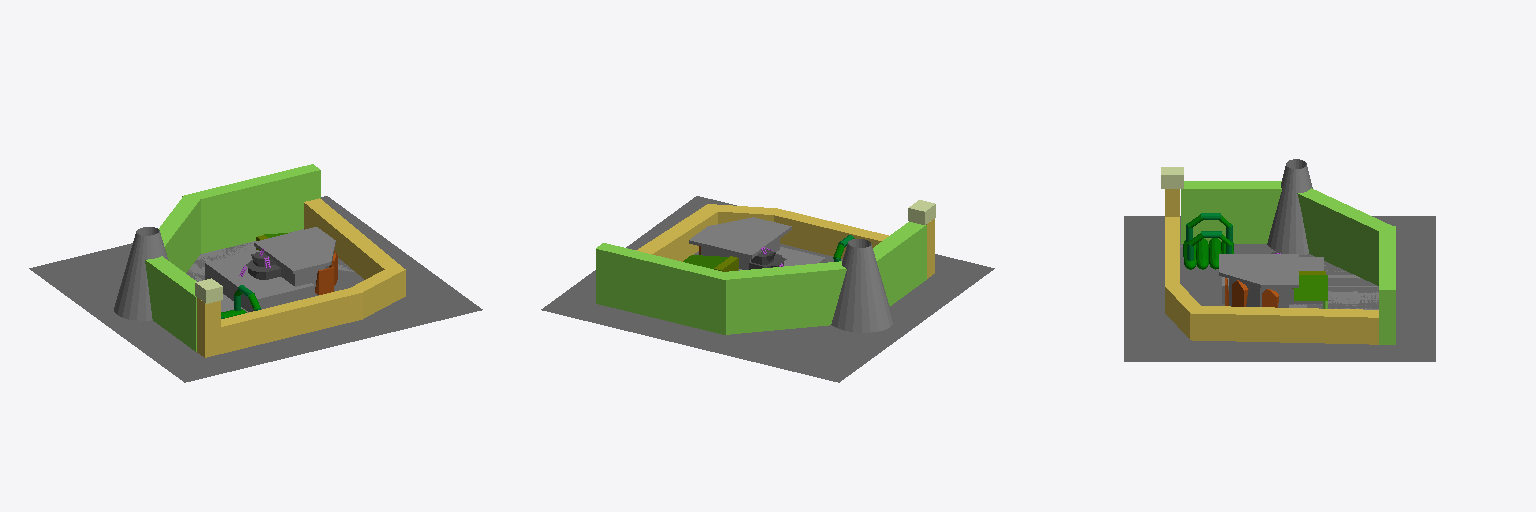
The model's file is Fachada-V3.obj.
3 views of the same model, side by side, from view 1: azimuth 30°, elevation 25°; view 2: azimuth 150°, elevation 25°; view 3: azimuth 270°, elevation 25° (orthographic).
Parts seen in each view (by area): view 1: Plane010, Box003, Box001, Box011, Cone001, Plane003, Box002; view 2: Box003, Plane010, Box001, Cone001, Box011, Box002; view 3: Plane010, Box003, Box001, Box011, Cone001, Plane009, Plane003.
Boxes of the visible parts, box(x1,y1,x2,y2) form: Plane010: box(29, 196, 482, 382); Box003: box(145, 164, 320, 351); Box001: box(197, 198, 405, 357); Box011: box(205, 227, 335, 311); Cone001: box(114, 227, 168, 320); Plane003: box(189, 229, 354, 312); Box002: box(195, 278, 222, 303); Box003: box(596, 222, 926, 334); Plane010: box(541, 196, 994, 382); Box001: box(636, 204, 934, 278); Cone001: box(831, 239, 893, 332); Box011: box(689, 217, 825, 270); Box002: box(908, 200, 935, 224); Plane010: box(1124, 216, 1435, 361); Box003: box(1181, 181, 1395, 344); Box001: box(1165, 189, 1378, 344); Box011: box(1180, 245, 1323, 307); Cone001: box(1267, 159, 1312, 254); Plane009: box(1294, 275, 1327, 300); Plane003: box(1289, 265, 1378, 309).
Size of the model in its own units: 207 by 57.12 by 188.